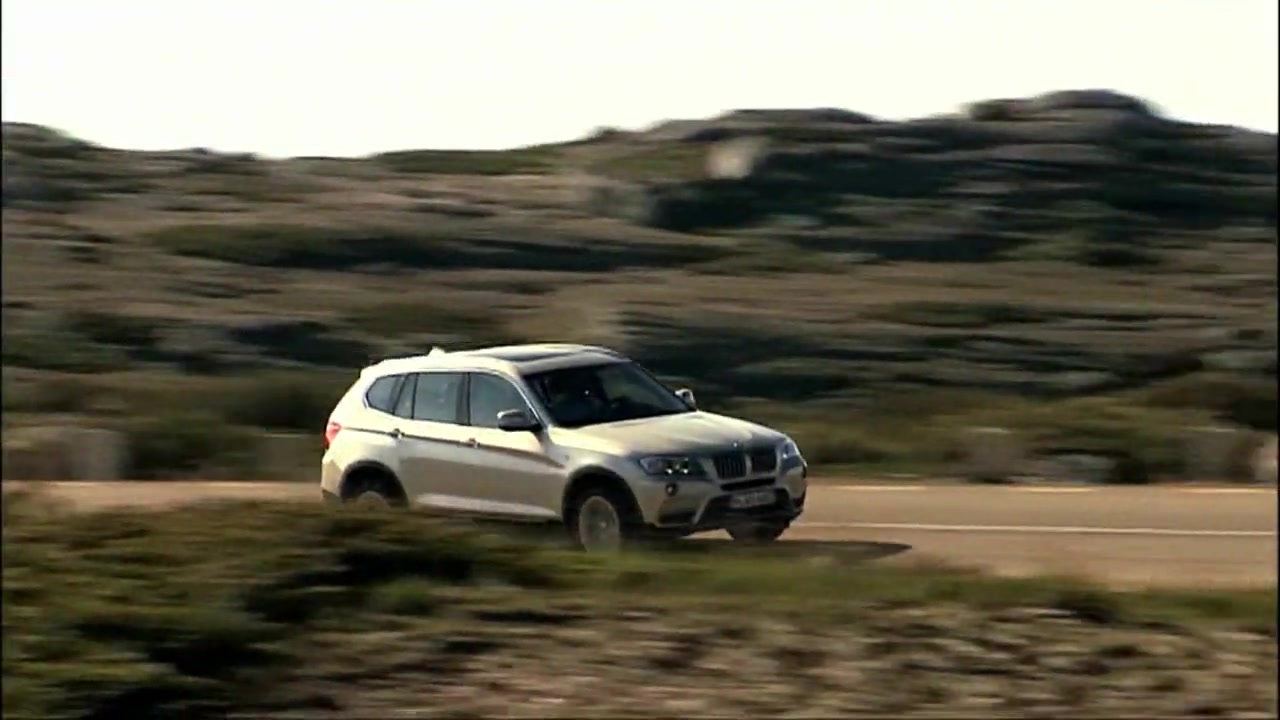car: (320, 338, 811, 568)
